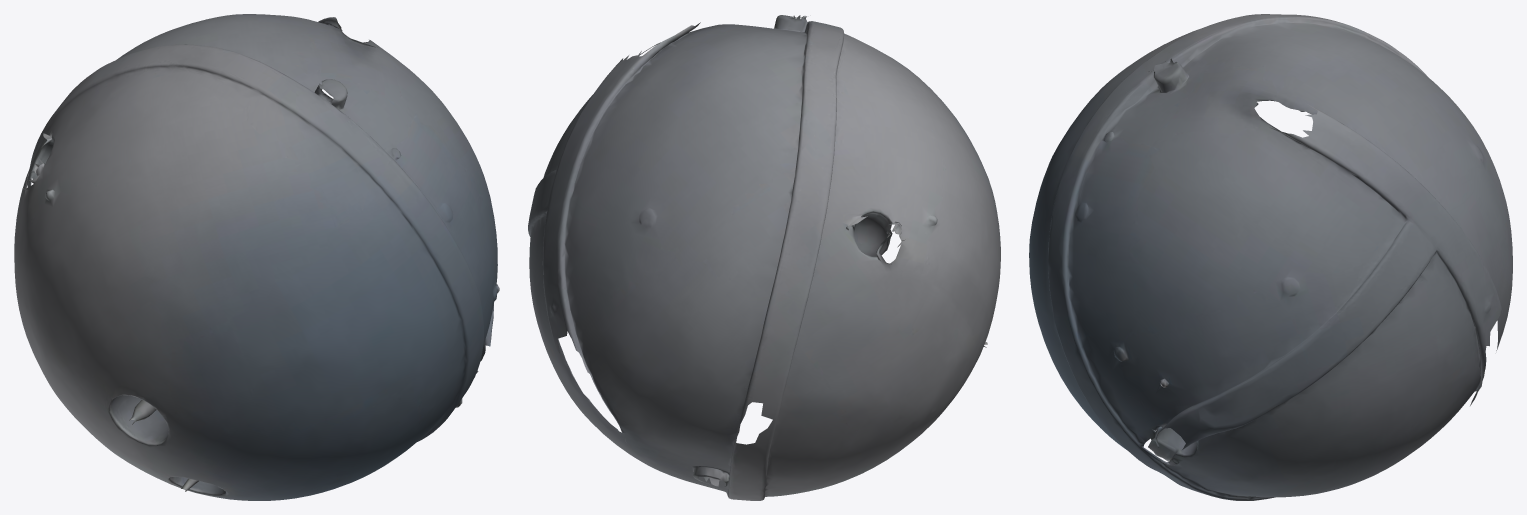
The model's file is sputnik_ball.glb.
3 views of the same model, side by side, from view 1: azimuth 30°, elevation 25°; view 2: azimuth 150°, elevation 25°; view 3: azimuth 270°, elevation 25° (orthographic). The views are drawn at different scales.
Parts seen in each view (by area): view 1: ball; view 2: ball; view 3: ball.
Boxes of the visible parts, x1,y1,x2,y2 form: ball: [14, 14, 499, 500]; ball: [528, 15, 1000, 500]; ball: [1029, 14, 1512, 500].
Bounding box in the file's own units: 0.5735 × 0.5827 × 0.5797.
1 material, 1 textured.
